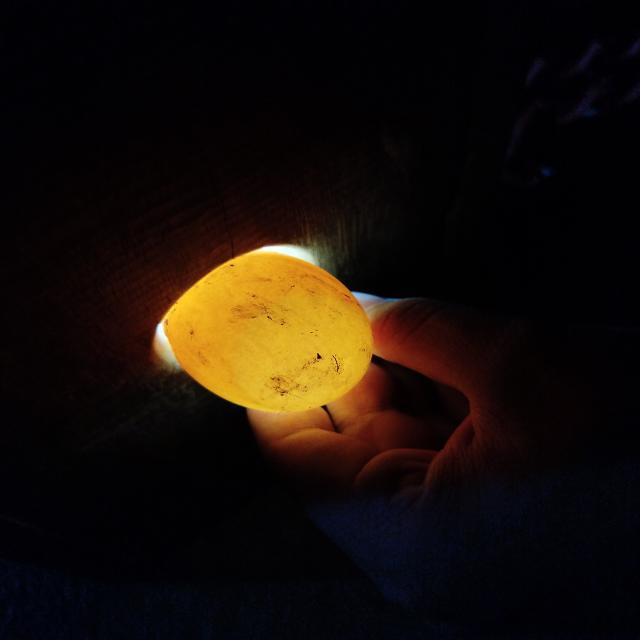Camara de Ar: (233, 294, 374, 412)
